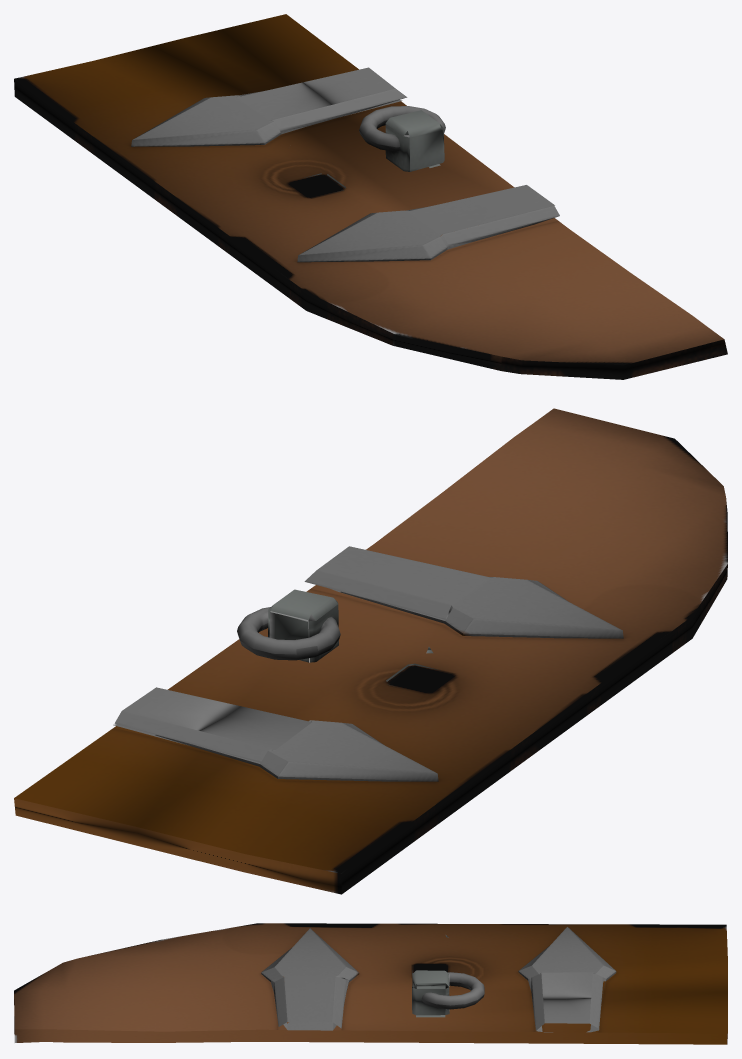
File: puertaDerJoshua.obj
3 renders of one model, top to bottom at view 1: azimuth 30°, elevation 25°; view 2: azimuth 150°, elevation 25°; view 3: azimuth 270°, elevation 25°, orthographic. The views are drawn at different scales.
Visible parts, largest first — view 1: Whole_Door.004_Door_Colour.001, Whole_Door.004_Door_Colour.002; view 2: Whole_Door.004_Door_Colour.001, Whole_Door.004_Door_Colour.002; view 3: Whole_Door.004_Door_Colour.001, Whole_Door.004_Door_Colour.002.
Boxes of the visible parts, <box> form: Whole_Door.004_Door_Colour.001: <box>14,14,727,379</box>; Whole_Door.004_Door_Colour.002: <box>359,106,445,171</box>; Whole_Door.004_Door_Colour.001: <box>14,408,727,894</box>; Whole_Door.004_Door_Colour.002: <box>237,589,340,662</box>; Whole_Door.004_Door_Colour.001: <box>14,923,727,1044</box>; Whole_Door.004_Door_Colour.002: <box>412,970,484,1017</box>.
Size of the model in its own units: 0.4695 by 0.0953 by 1.32.
